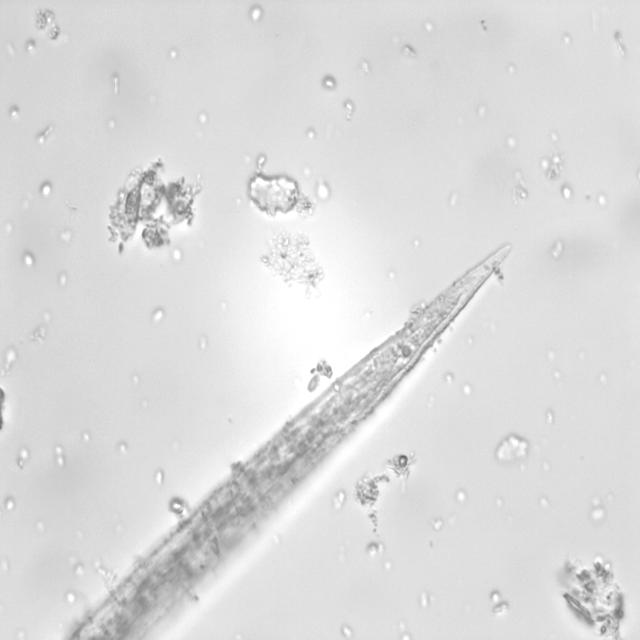Meloidogyne: (266, 235, 532, 485)
